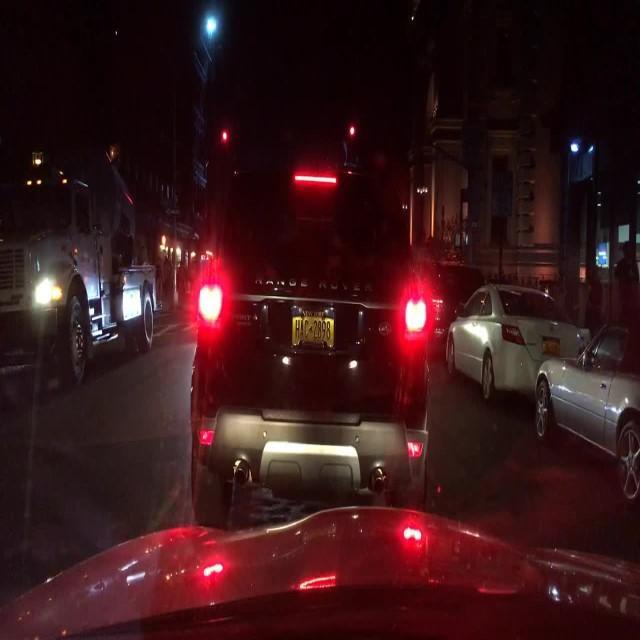normal: (175, 119, 452, 535)
